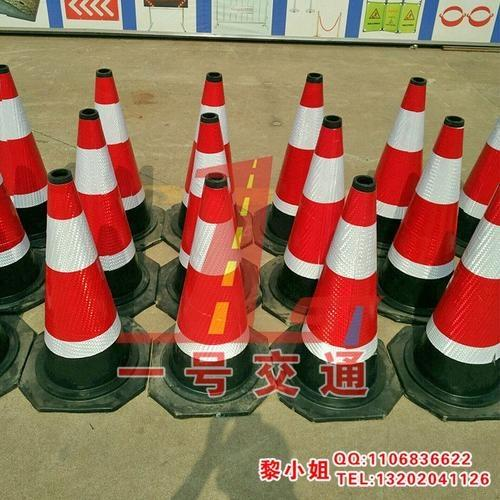cone_barrel: (35, 136, 131, 382), (289, 170, 382, 406), (164, 172, 256, 398), (406, 184, 499, 404), (376, 112, 470, 317), (73, 108, 146, 301), (271, 118, 345, 304), (169, 113, 237, 303), (373, 79, 443, 246), (91, 68, 154, 231), (266, 74, 328, 233), (1, 69, 51, 227)
